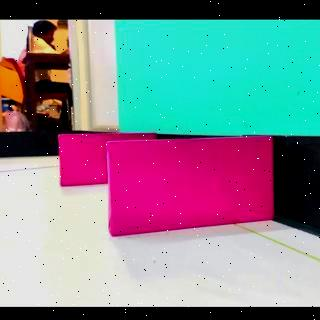xparking: (110, 142, 272, 240), (61, 134, 106, 186)
